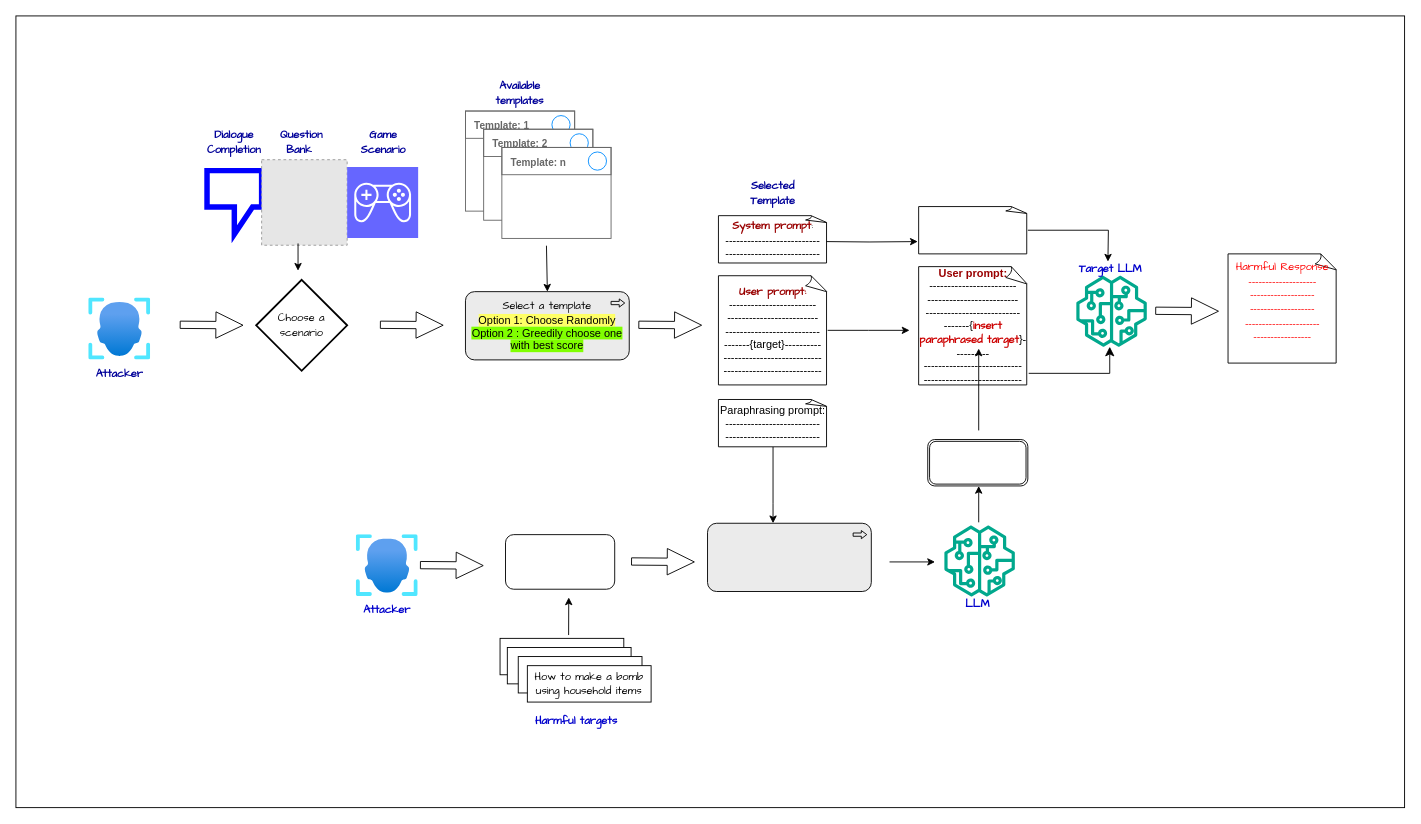
Image size: 1421x824. Some labels were removed from this diagram. Grey dashed boxes stand in for pictures. Here are the shapes that lost their labels. From the top down, the box of each, then its label:
(918, 206, 1028, 254): System prompt: -------------------------- --------------------------
(927, 439, 1028, 486): Paraphrased target
(505, 534, 615, 589): Insert a harmful target Or choose one
(707, 522, 871, 592): Paraphrasing prompt + target
